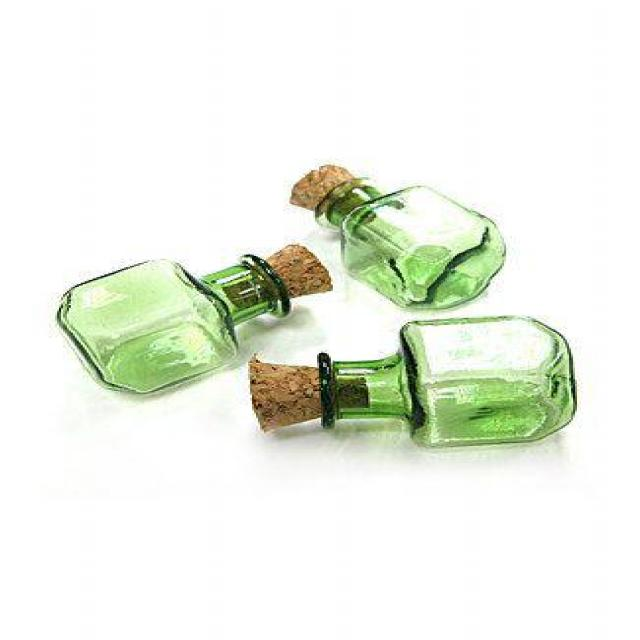non-organic waste: (245, 316, 594, 452), (40, 237, 332, 399), (282, 159, 506, 315)
